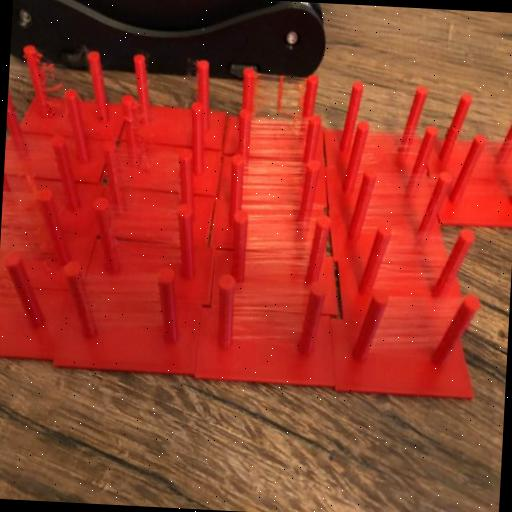stringing: (370, 296, 460, 356), (233, 286, 310, 348), (375, 235, 457, 293), (82, 275, 162, 332), (246, 217, 316, 281), (111, 144, 180, 208), (362, 176, 439, 230), (112, 210, 180, 268), (244, 162, 309, 216), (460, 140, 512, 199), (244, 112, 307, 160), (7, 137, 61, 193), (0, 197, 51, 254), (0, 266, 25, 322)
